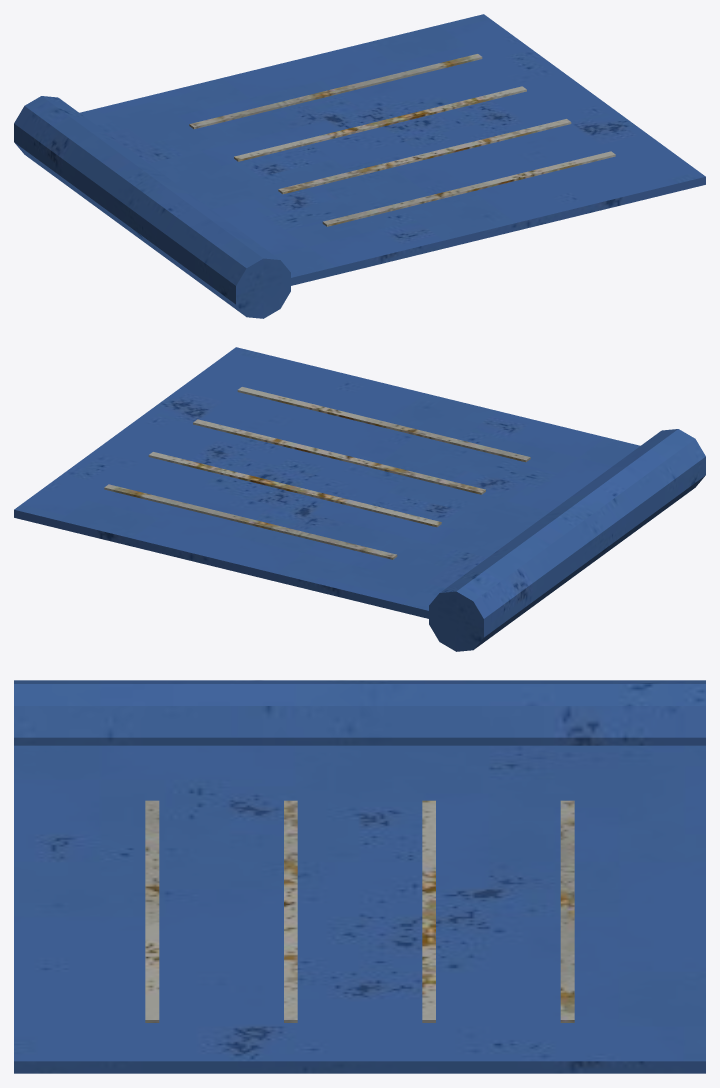
The model's file is held_build_plan.glb.
The picture shows the model from 3 angles, top to bottom: view 1: azimuth 30°, elevation 25°; view 2: azimuth 150°, elevation 25°; view 3: azimuth 270°, elevation 25°; orthographic projection. The views are drawn at different scales.
Parts seen in each view (by area): view 1: box, cyl, box.001, box.002, box.004, box.003; view 2: box, cyl, box.003, box.004, box.001, box.002; view 3: box, cyl, box.001, box.004, box.002, box.003.
Part boxes in pixels (left/top/right/bottom): box: left=79, top=14, right=705, bottom=287; cyl: left=14, top=96, right=290, bottom=318; box.001: left=322, top=151, right=615, bottom=226; box.002: left=278, top=119, right=571, bottom=194; box.004: left=189, top=54, right=482, bottom=129; box.003: left=234, top=86, right=526, bottom=161; box: left=14, top=347, right=640, bottom=620; cyl: left=429, top=429, right=705, bottom=651; box.003: left=148, top=452, right=441, bottom=527; box.004: left=104, top=484, right=397, bottom=559; box.001: left=237, top=387, right=530, bottom=462; box.002: left=193, top=419, right=485, bottom=494; box: left=14, top=745, right=705, bottom=1073; cyl: left=14, top=680, right=705, bottom=745; box.001: left=145, top=800, right=159, bottom=1022; box.004: left=560, top=800, right=574, bottom=1022; box.002: left=284, top=800, right=297, bottom=1022; box.003: left=422, top=800, right=435, bottom=1022.
Size of the model in its own units: 0.2443 by 0.03 by 0.2.
Materials: 2 (2 with a texture image).
